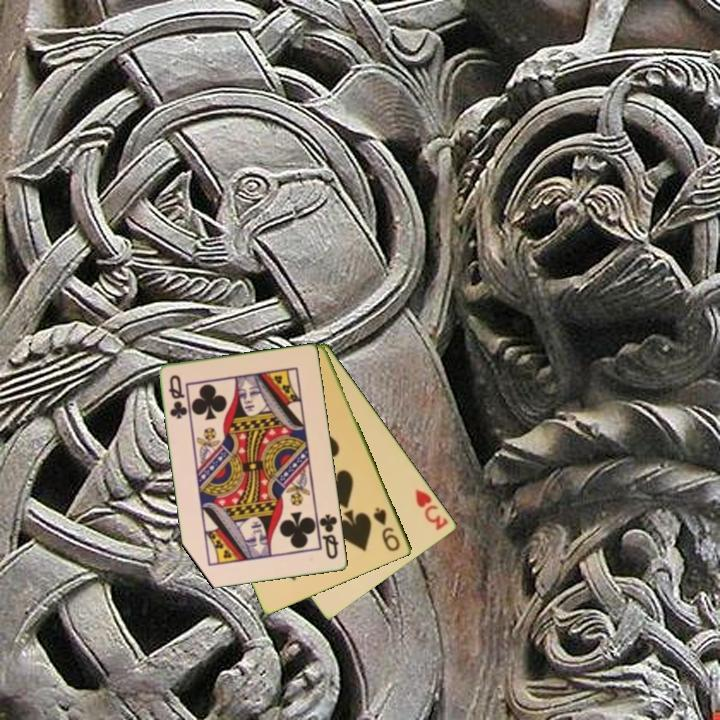3h: (412, 486, 451, 533)
9s: (370, 504, 403, 555)
Qc: (314, 510, 342, 562), (166, 371, 190, 422)
